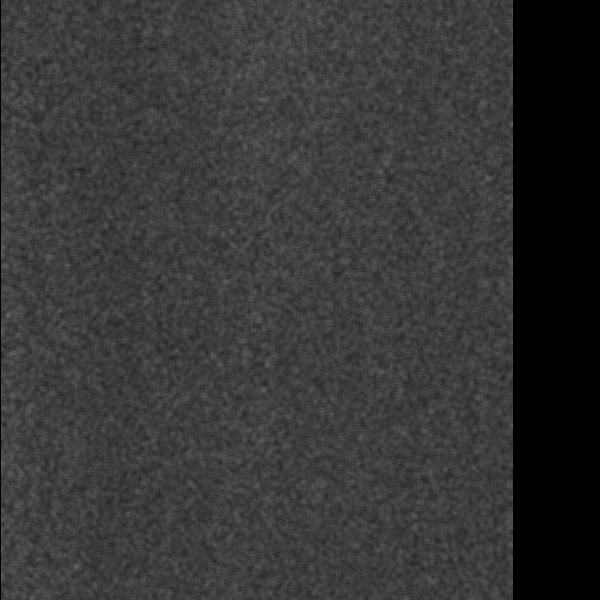spark: (318, 369, 376, 423), (331, 208, 367, 295), (7, 285, 38, 386), (326, 537, 371, 586), (229, 430, 249, 487), (329, 439, 359, 469), (339, 304, 360, 336), (334, 473, 359, 491)
